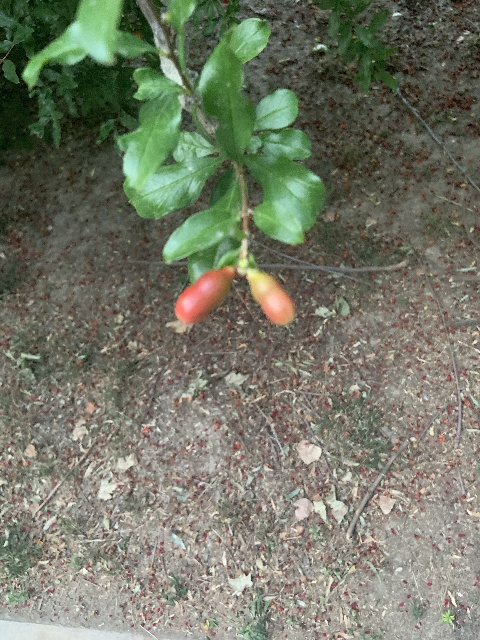bud: (175, 266, 233, 326), (248, 269, 296, 327)
